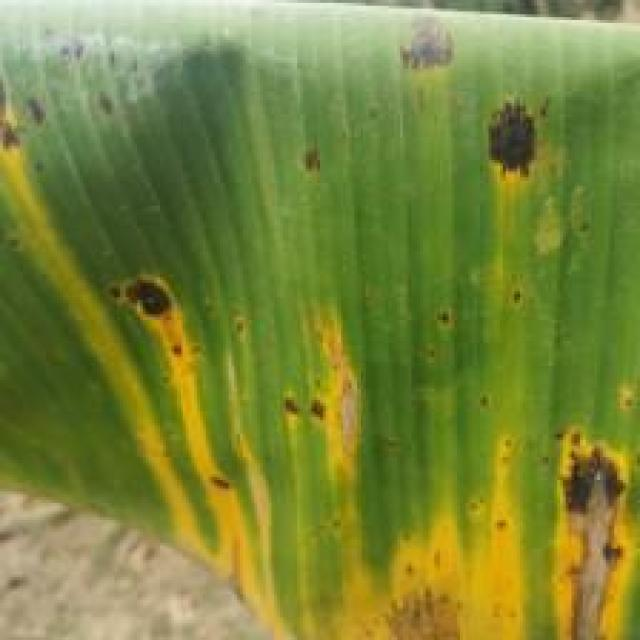Downey_mildrew: (52, 267, 640, 640), (0, 80, 77, 306), (477, 89, 559, 203), (390, 12, 484, 86), (77, 76, 146, 156), (290, 122, 331, 203)
